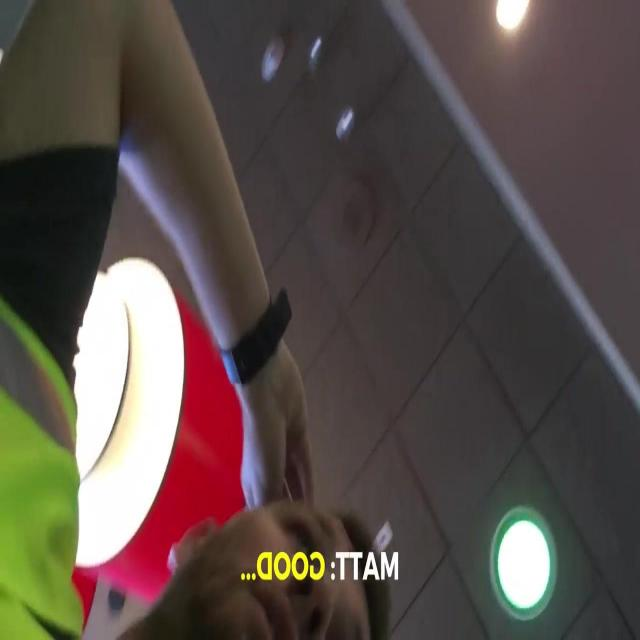Reflective-Jacket: (0, 218, 96, 640)
